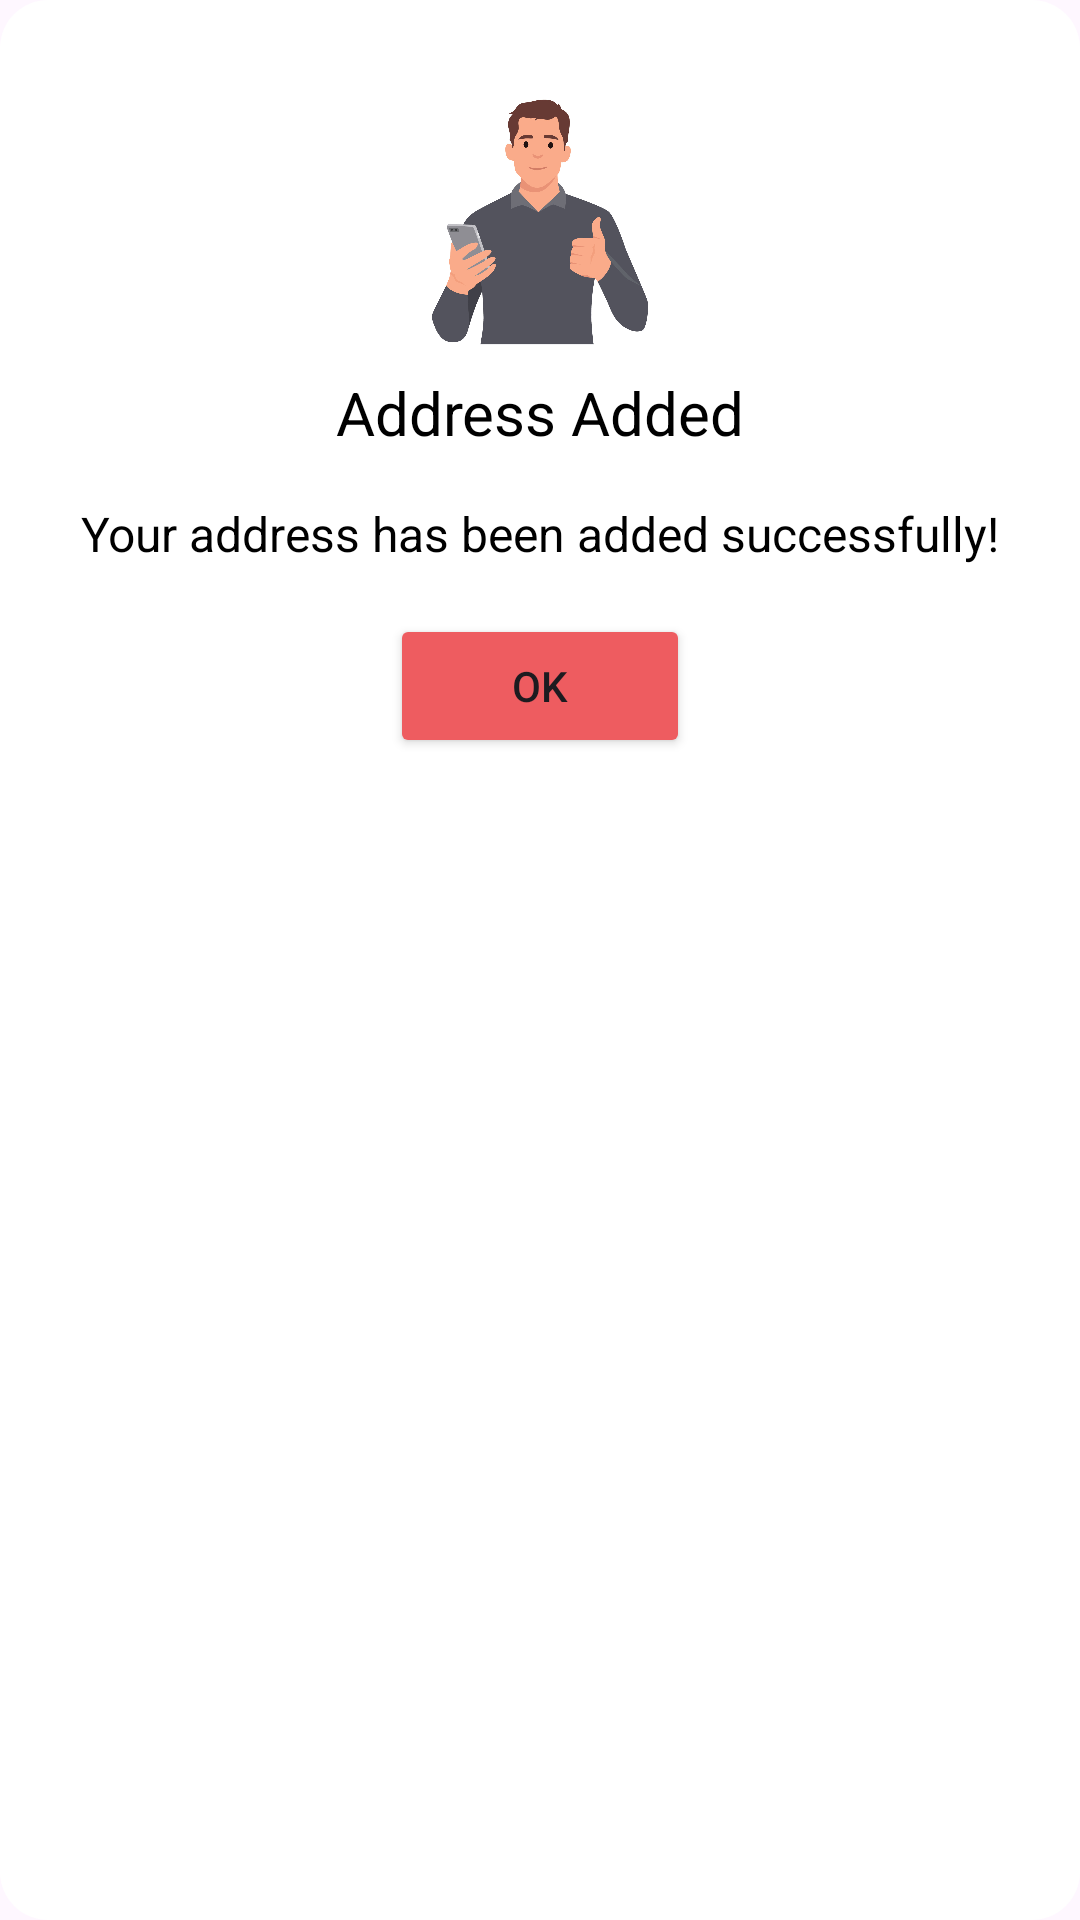

Screen size 1080 × 1920. Icon name, then its box in pixels as (x1, y1, x2, y2):
mann: (432, 100, 648, 344)
